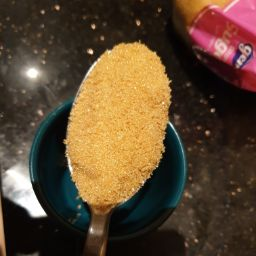Brown Sugar: (63, 36, 177, 216), (103, 58, 144, 178), (89, 77, 121, 201), (75, 123, 159, 160), (93, 69, 162, 113)
